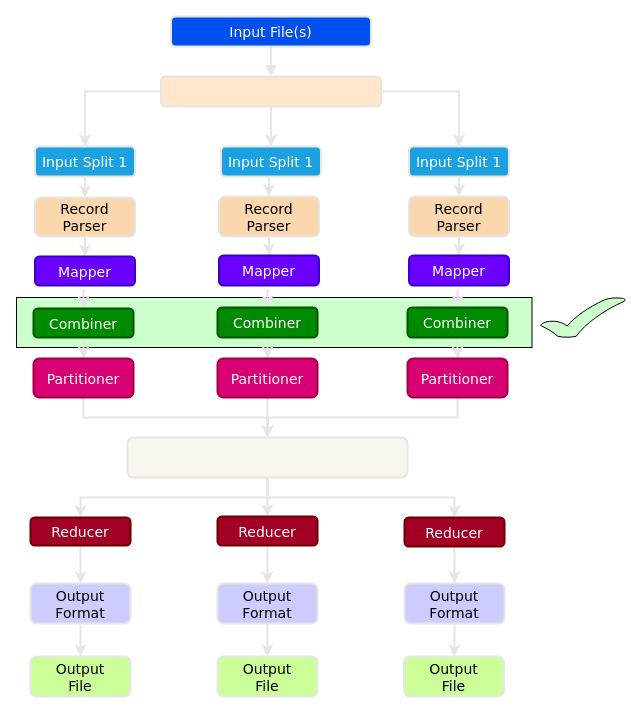
Image size: 642x713. Some labels were removed from this diagram. Here are the shapes that lost their labels. From the top down, the centre of each, then its label:
At point 271,91: "File Input Format".
At point 267,457: "Shuffle and Sort".
